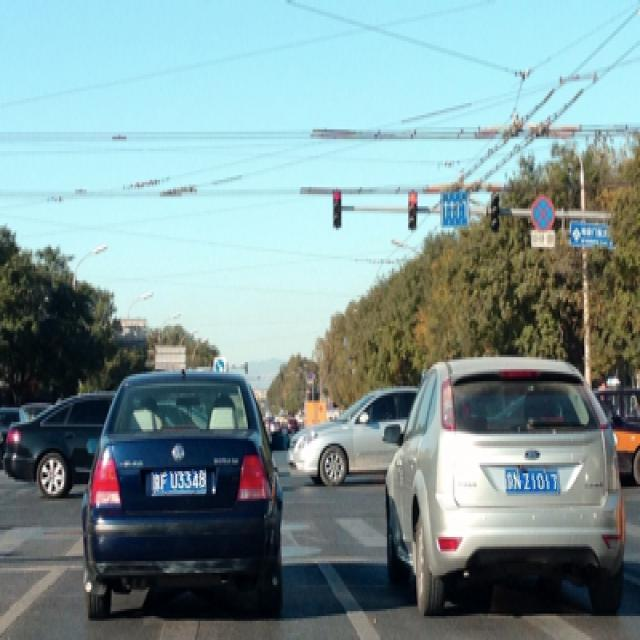licence: (148, 467, 206, 494), (504, 465, 557, 489)
